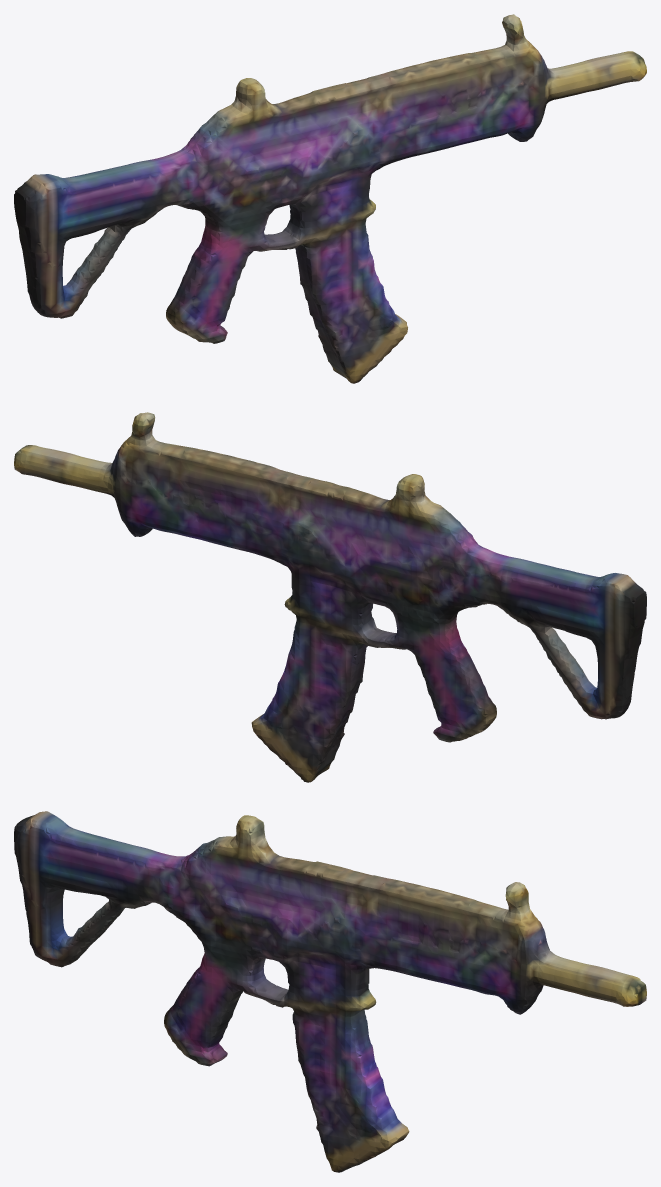
File: gun2.glb
3 views of the same model, one above another, from view 1: azimuth 30°, elevation 25°; view 2: azimuth 150°, elevation 25°; view 3: azimuth 330°, elevation 25° (orthographic).
Visible parts, largest first — view 1: world; view 2: world; view 3: world.
Boxes of the visible parts, box(x1,y1,x2,y2) form: world: box(14, 14, 646, 383); world: box(14, 412, 646, 782); world: box(14, 811, 646, 1172).
Size of the model in its own units: 1.97 by 0.9772 by 0.1181.
